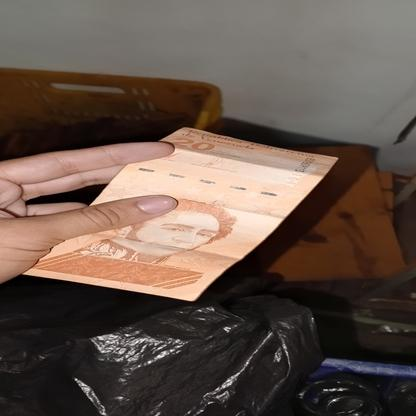twenty-front-vef: (20, 126, 338, 302)
